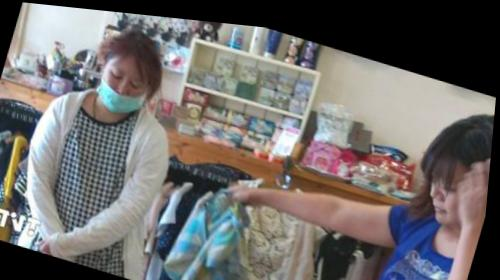NONE: (422, 157, 482, 222)
WRONG: (95, 58, 155, 118)
